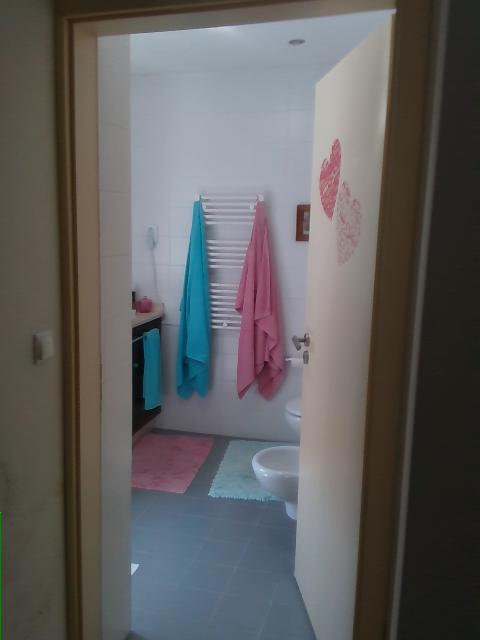open_door: (54, 2, 451, 639)
